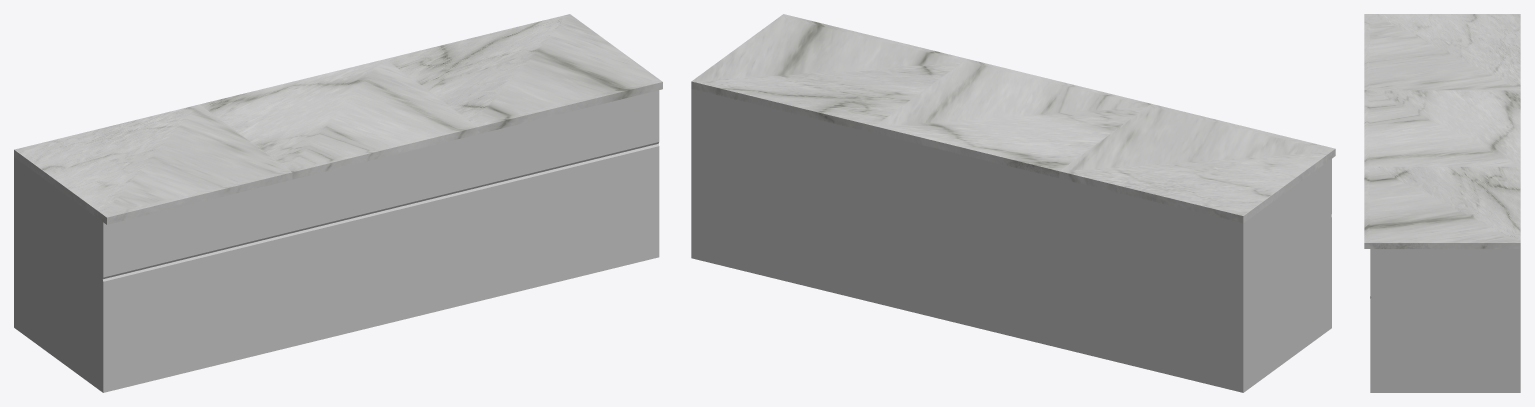
The model's file is Kitchen_Table.fbx.
The picture shows the model from 3 angles, left to right: view 1: azimuth 30°, elevation 25°; view 2: azimuth 150°, elevation 25°; view 3: azimuth 270°, elevation 25°; orthographic projection. The views are drawn at different scales.
Visible parts, largest first — view 1: Куб.003, Куб.002, Куб.001; view 2: Куб.003, Куб.002, Куб.001; view 3: Куб.002, Куб.001, Куб.003.
Part boxes in pixels (box(x1,y1,x2,y2)): Куб.003: box(14, 104, 292, 392); Куб.002: box(385, 14, 662, 302); Куб.001: box(200, 59, 477, 347); Куб.003: box(1059, 104, 1335, 392); Куб.002: box(691, 14, 966, 302); Куб.001: box(875, 59, 1151, 347); Куб.002: box(1364, 166, 1520, 392); Куб.001: box(1364, 90, 1520, 166); Куб.003: box(1364, 14, 1520, 90).
Size of the model in its own units: 324 by 99.15 by 93.72.
1 material, 1 textured.
